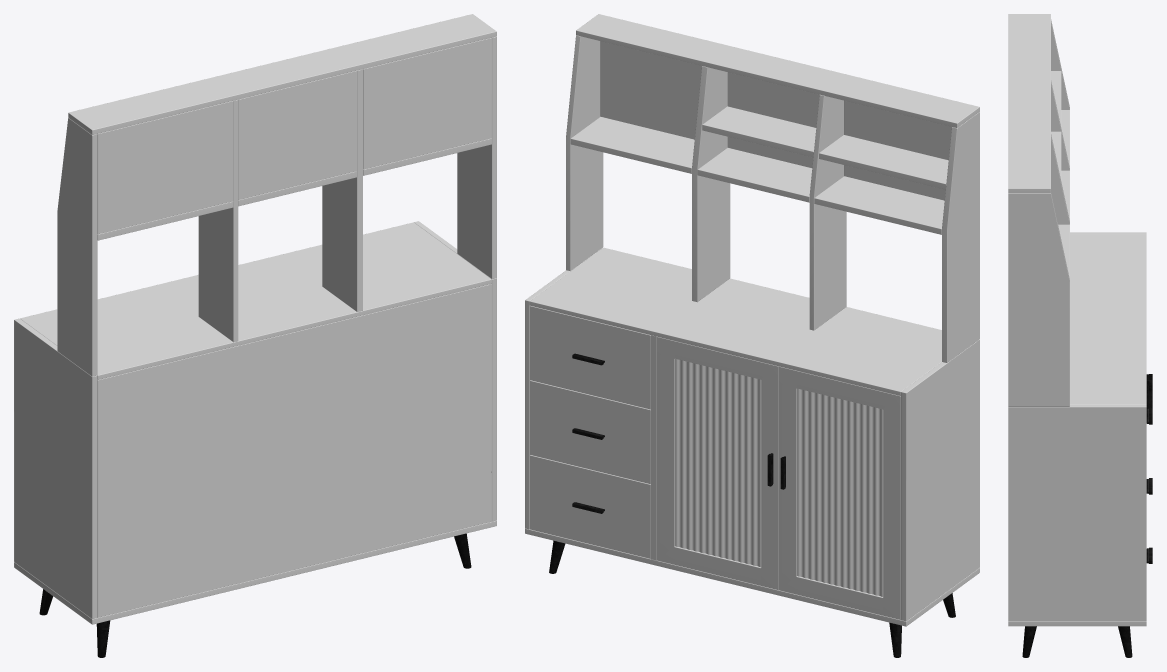
Rendered from secondDesk.glb.
The picture shows the model from 3 angles, left to right: view 1: azimuth 30°, elevation 25°; view 2: azimuth 150°, elevation 25°; view 3: azimuth 270°, elevation 25°; orthographic projection. The views are drawn at different scales.
Parts seen in each view (by area): view 1: Cube.005; view 2: Cube.005, Cube.003; view 3: Cube.005.
Part boxes in pixels (left/top/right/bottom): Cube.005: left=14, top=14, right=496, bottom=657; Cube.005: left=525, top=14, right=979, bottom=657; Cube.003: left=675, top=359, right=883, bottom=596; Cube.005: left=1008, top=14, right=1152, bottom=657.
Bounding box in the file's own units: 0.012 × 0.0152 × 0.00419.
Materials: 2 (1 with a texture image).
